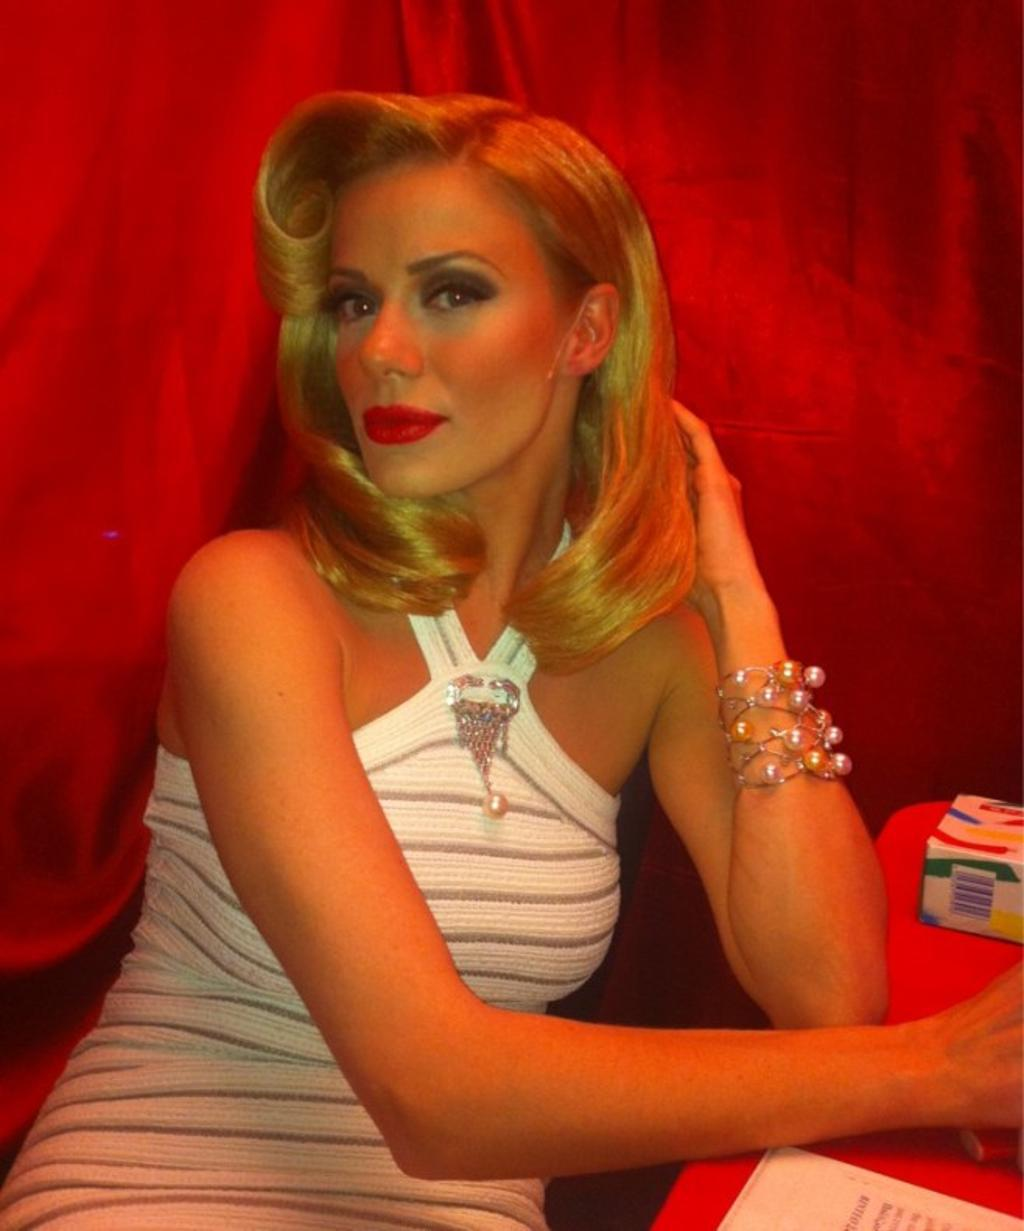face: (323, 138, 561, 496)
